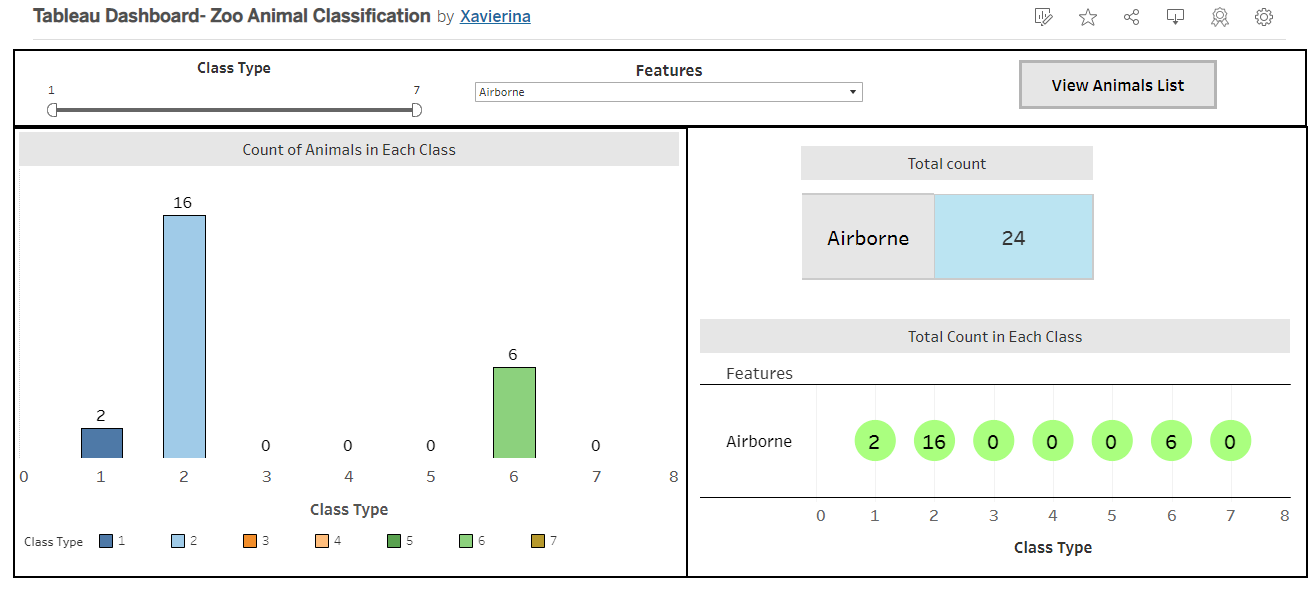

The page's visual inventory and layout, read from the dashboard file:
{"tool":"tableau","page":{"name":"Zoo Animal Classification","canvas":[1000,1000],"units":"permille","ordinal":1},"visuals":[{"type":"blank","box":[17.3,16.9,966.3,141.9]},{"type":"filter","title":"Features Vs Class Types","param":"[federated.0sakimt1yhm2v414vwdiz0nzel2k].[none:class_type:qk]","box":[40.1,30.4,284.2,109.8]},{"type":"parameter","param":"[Parameters].[Parameter 1]","box":[361.6,32.1,291.4,118.2]},{"type":"dashboard-object","box":[768.1,37.2,148.6,87.8]},{"type":"blank","box":[520,155.4,464.5,821]},{"type":"blank","box":[17.3,158.8,503.6,817.6]},{"type":"worksheet","title":"Features Vs Class Types","mark":"Bar","rows":["Calculation_1215127527107743744"],"cols":["class_type"],"box":[21.9,167.2,492.7,712.8]},{"type":"worksheet","title":"Total count","mark":"Automatic","box":[605.6,192.6,288.7,270.3]},{"type":"worksheet","title":"Total Count in Each Class","mark":"Shape","cols":["class_type"],"box":[530,506.8,441.7,445.9]},{"type":"legend","title":"Features Vs Class Types","param":"[federated.0sakimt1yhm2v414vwdiz0nzel2k].[none:class_type:ok]","box":[25.5,890.2,487.2,64.2]}]}

Visuals, with their boxes on the dashboard's canvas, which has no fixed pixel size, in thousandths of its width and height (x1, y1, x2, y2). These are canvas units, not pixel positions in the 1315x589 screenshot, which may show the page scaled, cropped or inside an application window:
blank: {"left": 17, "top": 17, "right": 984, "bottom": 159}
"Features Vs Class Types" filter: {"left": 40, "top": 30, "right": 324, "bottom": 140}
parameter: {"left": 362, "top": 32, "right": 653, "bottom": 150}
dashboard-object: {"left": 768, "top": 37, "right": 917, "bottom": 125}
blank: {"left": 520, "top": 155, "right": 984, "bottom": 976}
blank: {"left": 17, "top": 159, "right": 521, "bottom": 976}
"Features Vs Class Types" worksheet (Bar marks): {"left": 22, "top": 167, "right": 515, "bottom": 880}
"Total count" worksheet: {"left": 606, "top": 193, "right": 894, "bottom": 463}
"Total Count in Each Class" worksheet (Shape marks): {"left": 530, "top": 507, "right": 972, "bottom": 953}
"Features Vs Class Types" legend: {"left": 26, "top": 890, "right": 513, "bottom": 954}
